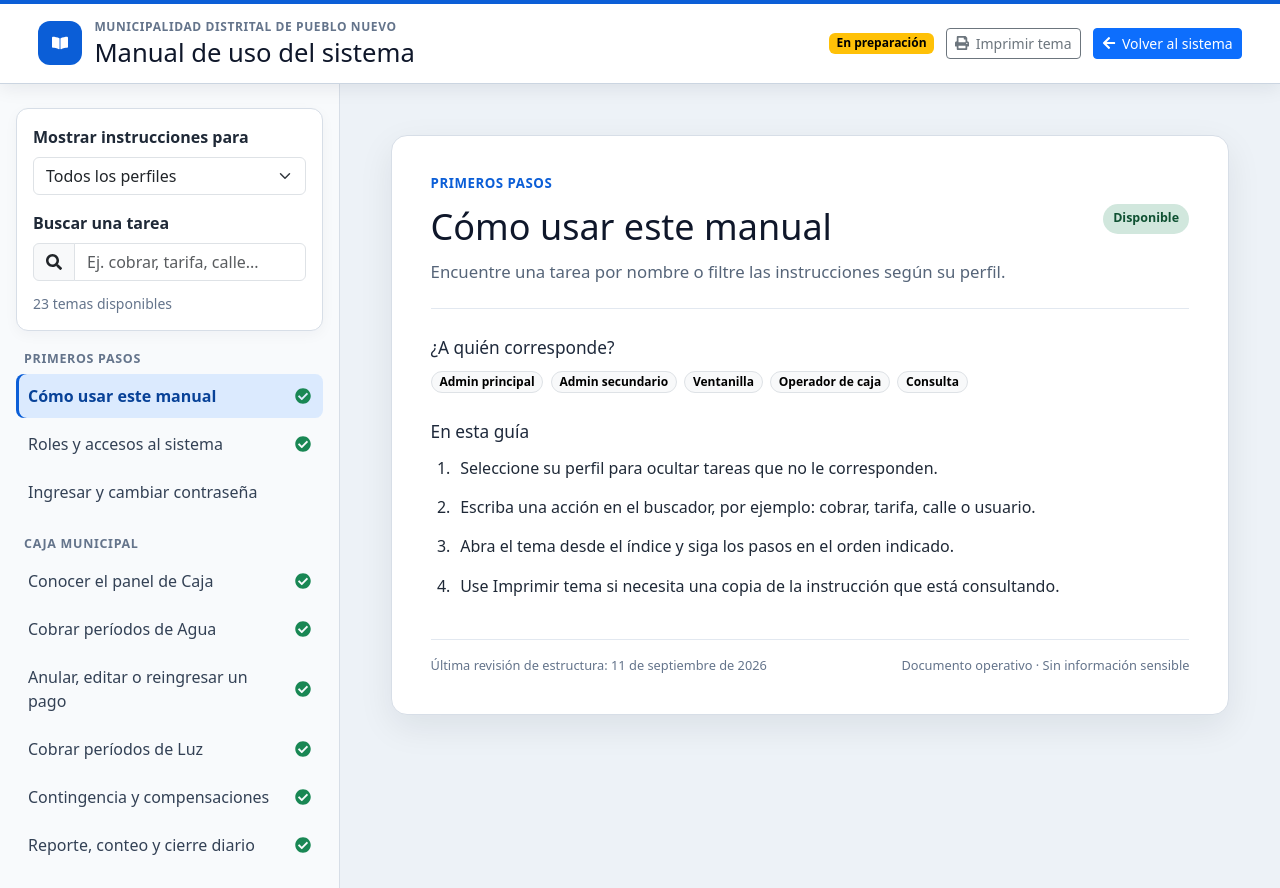
Test case: ManualApp › muestra el índice y encuentra tareas sin depender de las tildes
expect the heading "Manual de uso del sistema" is shown: met, box left=94, top=37, right=415, bottom=69
In the search field labelled "Buscar una tarea": (190, 262) left=74, top=243, right=306, bottom=281, type "desague"
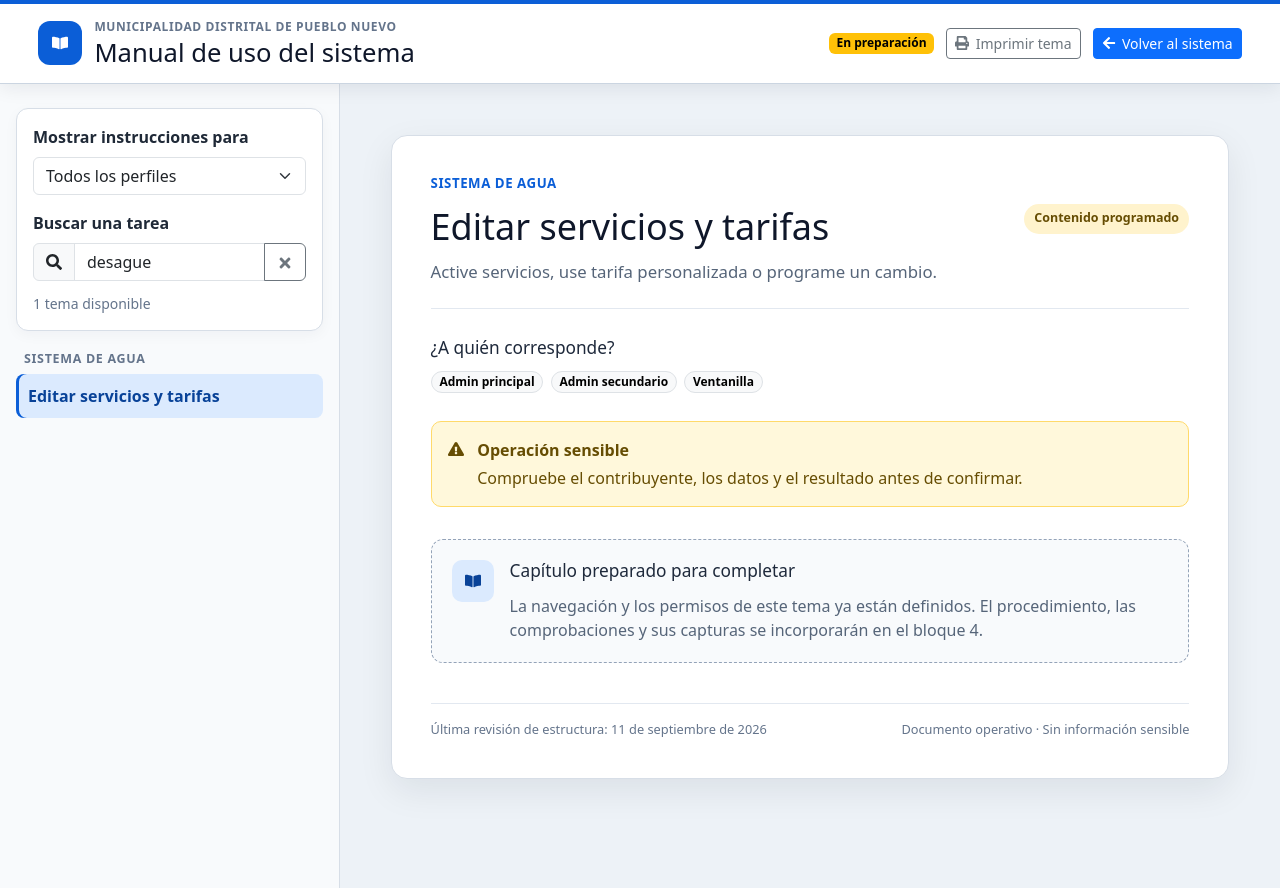
expect the button "Editar servicios y tarifas" is shown: met, box left=16, top=374, right=323, bottom=418
expect the button "Cobrar períodos de Luz" is gone: met
